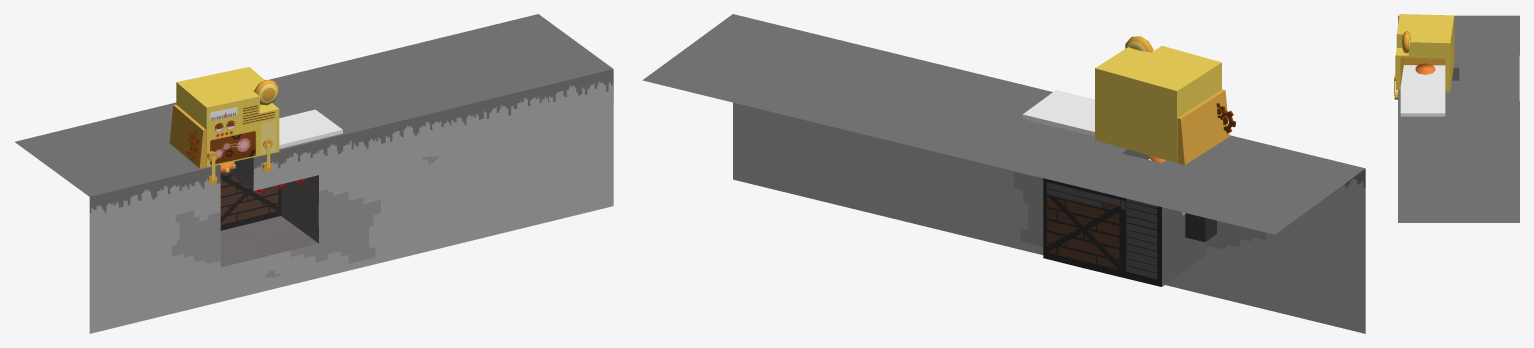
The model's file is BG_1_fix.fbx.
The picture shows the model from 3 angles, left to right: view 1: azimuth 30°, elevation 25°; view 2: azimuth 150°, elevation 25°; view 3: azimuth 270°, elevation 25°; orthographic projection. The views are drawn at different scales.
Parts seen in each view (by area): view 1: Cube.002, Cube.001, Cube.004; view 2: Cube.002, Cube.001, Cube.004; view 3: Cube.002, Cube.001, Cube.004, Cube.003.
Part boxes in pixels (x1,y1,x2,y2): Cube.002: (15,14,613,333); Cube.001: (169,67,279,184); Cube.004: (279,109,342,148); Cube.002: (642,14,1365,333); Cube.001: (1095,36,1235,165); Cube.004: (1022,90,1094,136); Cube.002: (1398,15,1519,222); Cube.001: (1394,14,1454,99); Cube.004: (1400,65,1445,116); Cube.003: (1415,63,1435,74).
Size of the model in its own units: 32.54 by 12.2 by 8.35.
